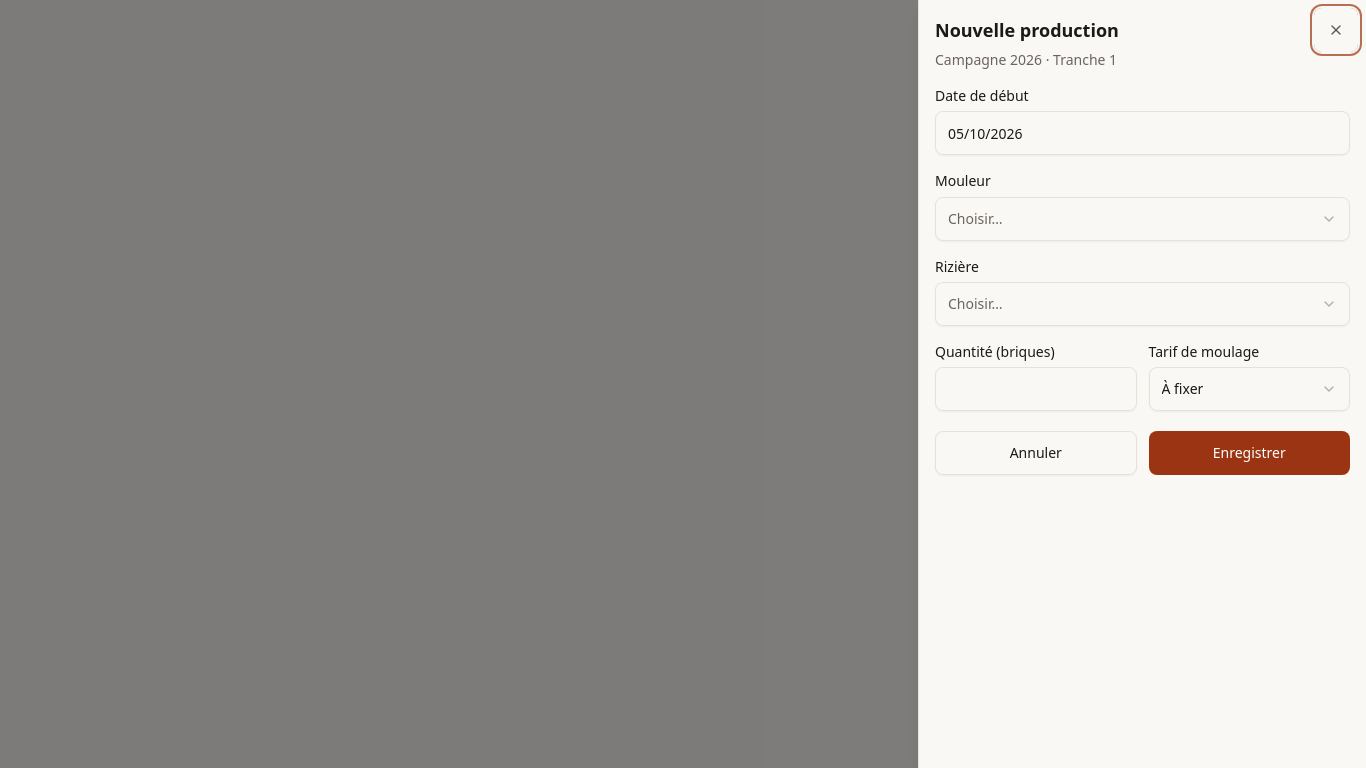
Test: NewProductionPage › says above the form what no field can carry
Click the dropdown labelled "Choisir…" below "Mouleur": (975, 218) x1=935 y1=196 x2=1350 y2=240
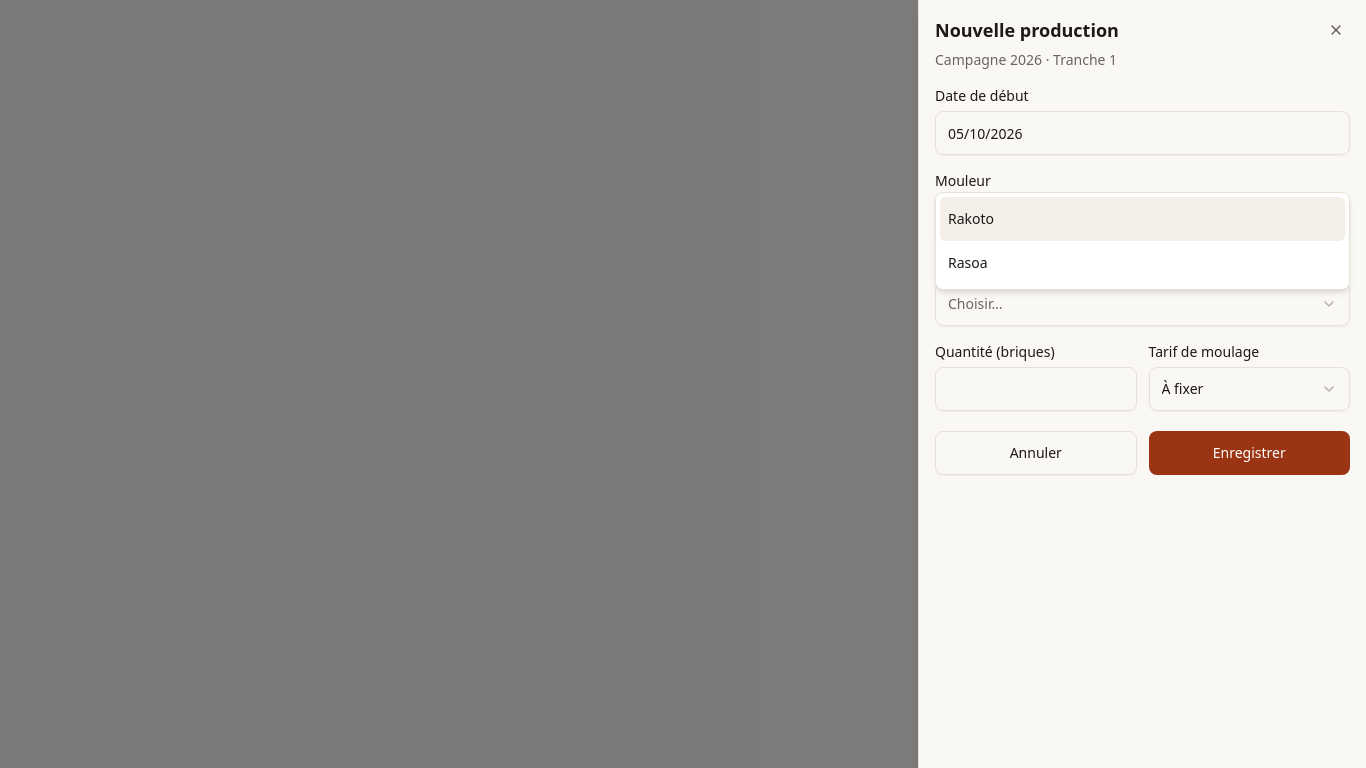
Click the option "Rakoto": (971, 218) x1=940 y1=196 x2=1345 y2=240
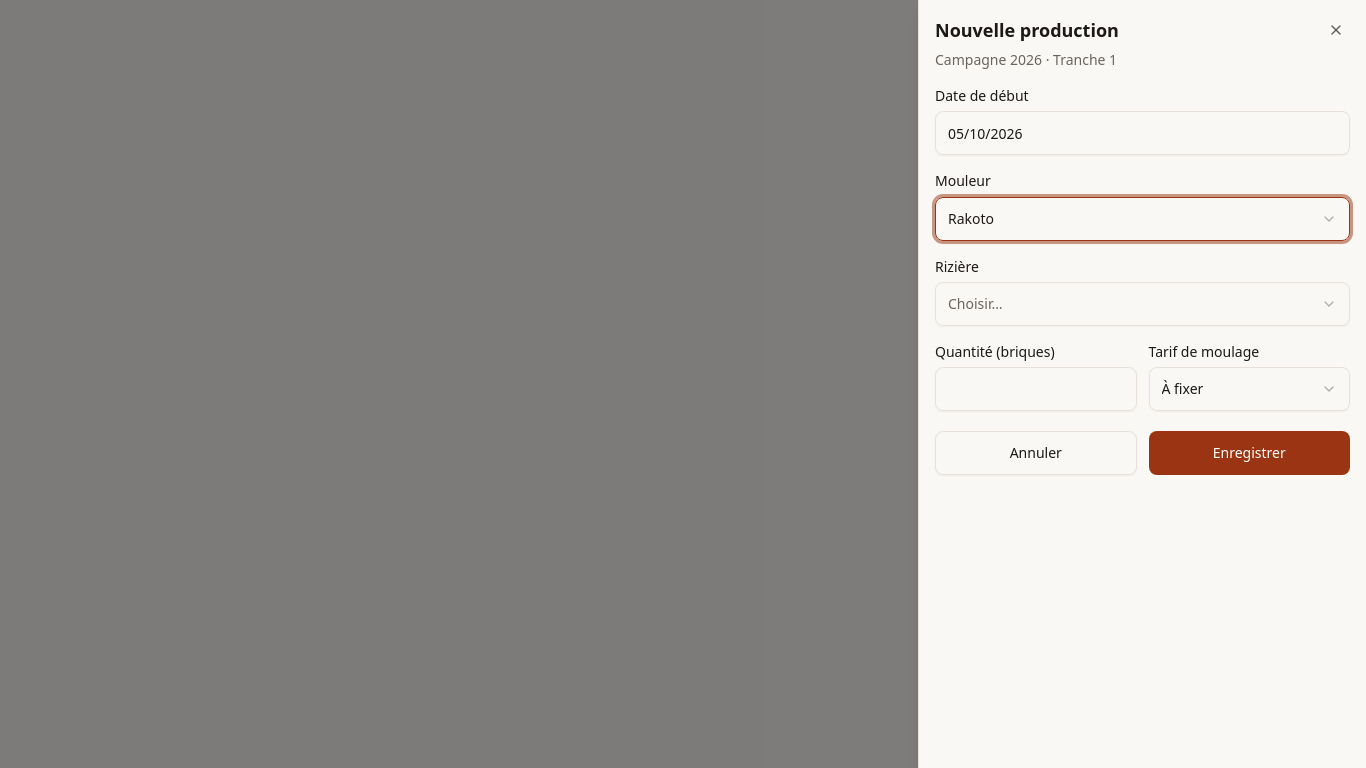
Click the dropdown named "Rizière": (975, 303) x1=935 y1=282 x2=1350 y2=326
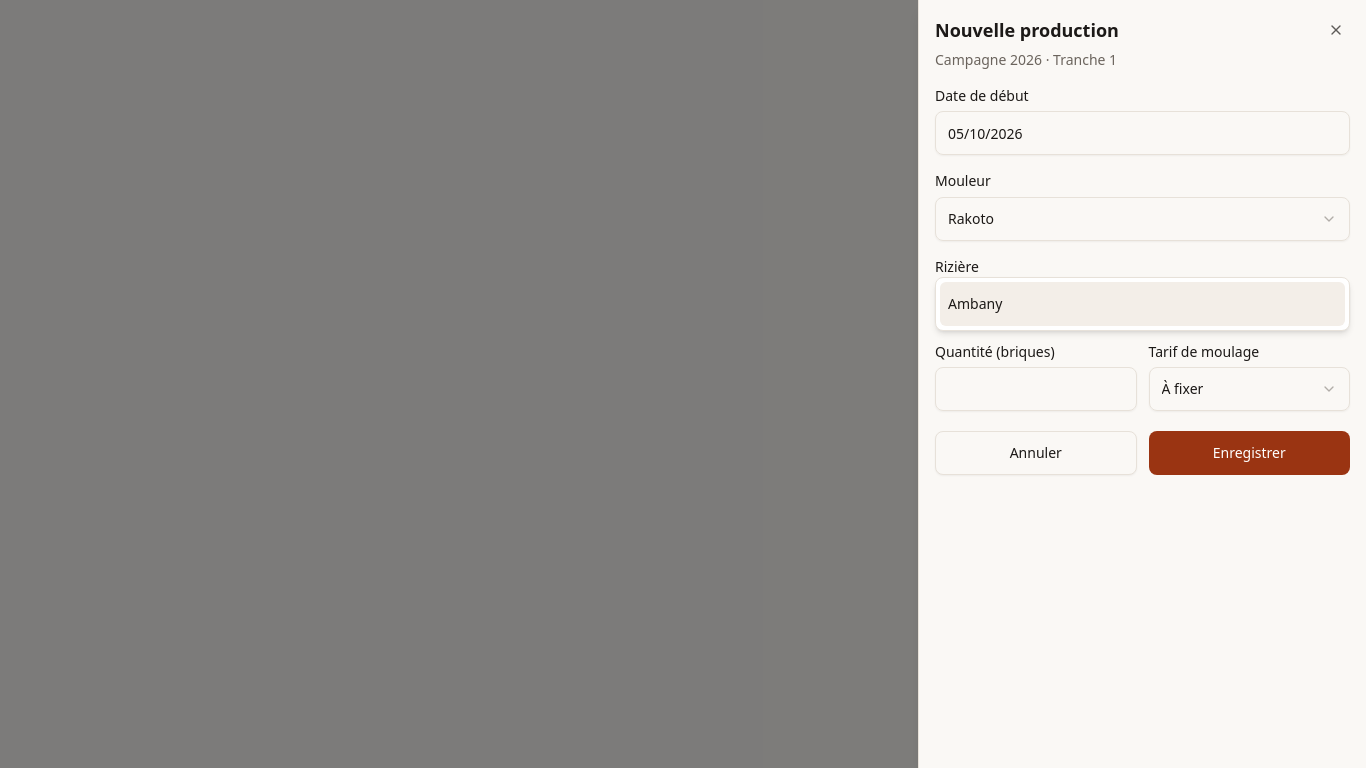
Click the option "Ambany": (975, 303) x1=940 y1=282 x2=1345 y2=326
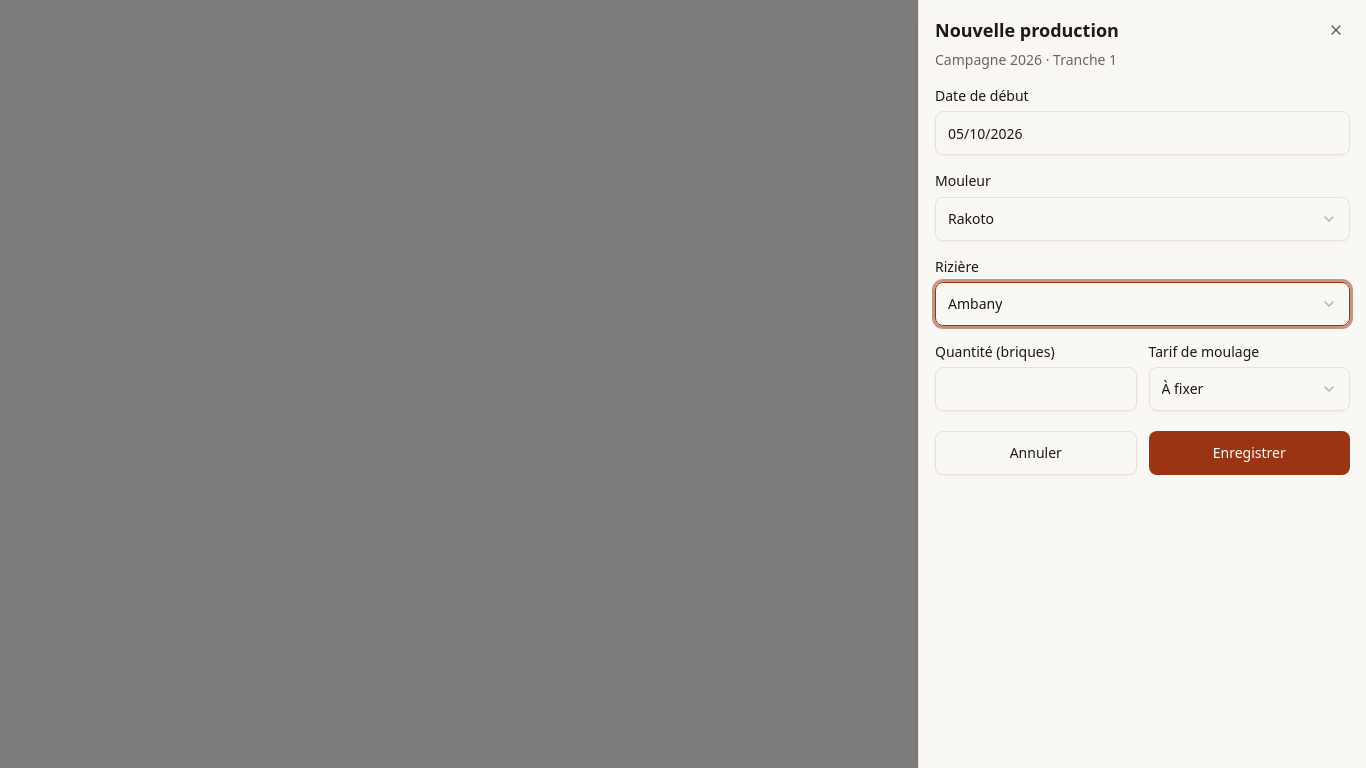
In the field labelled "Quantité (briques)": (1036, 389) x1=935 y1=367 x2=1136 y2=411, type "500"
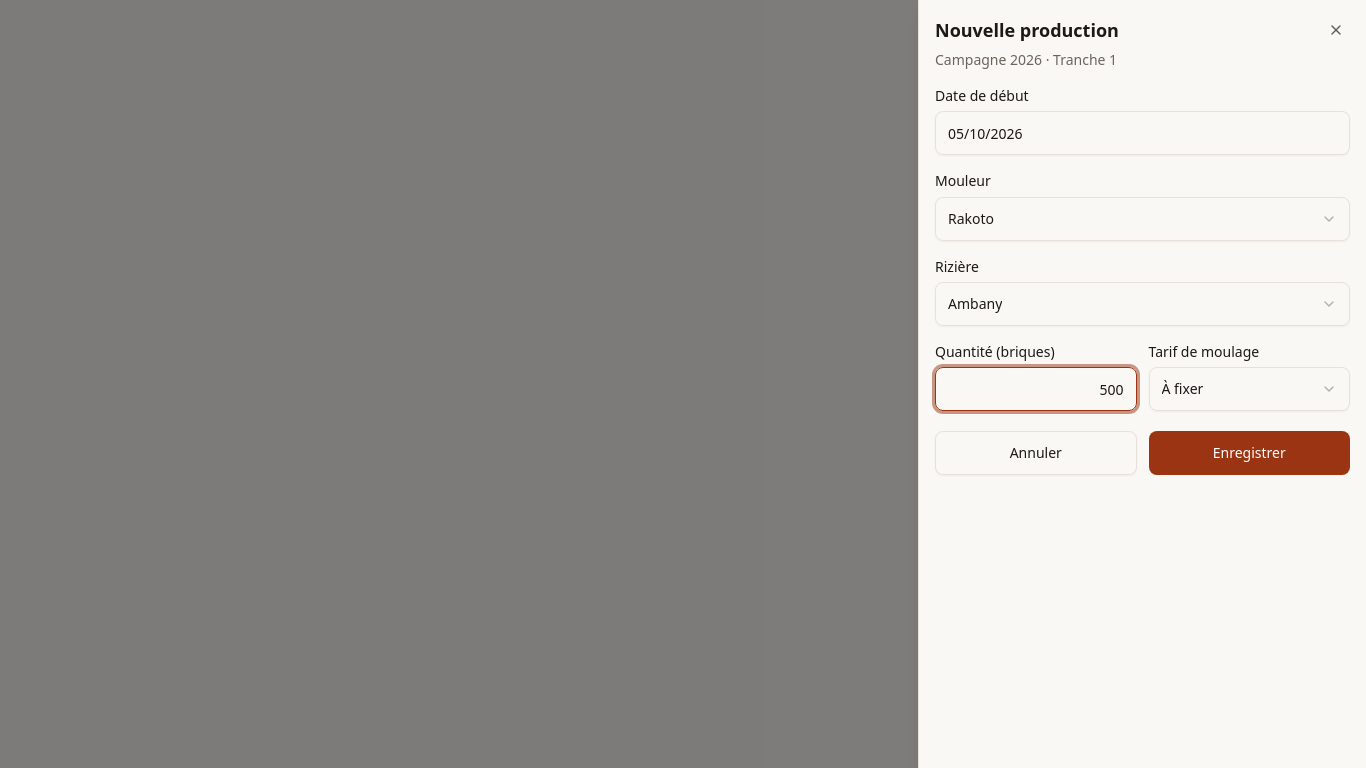
Click the button "Enregistrer": (1249, 453) x1=1148 y1=431 x2=1350 y2=475
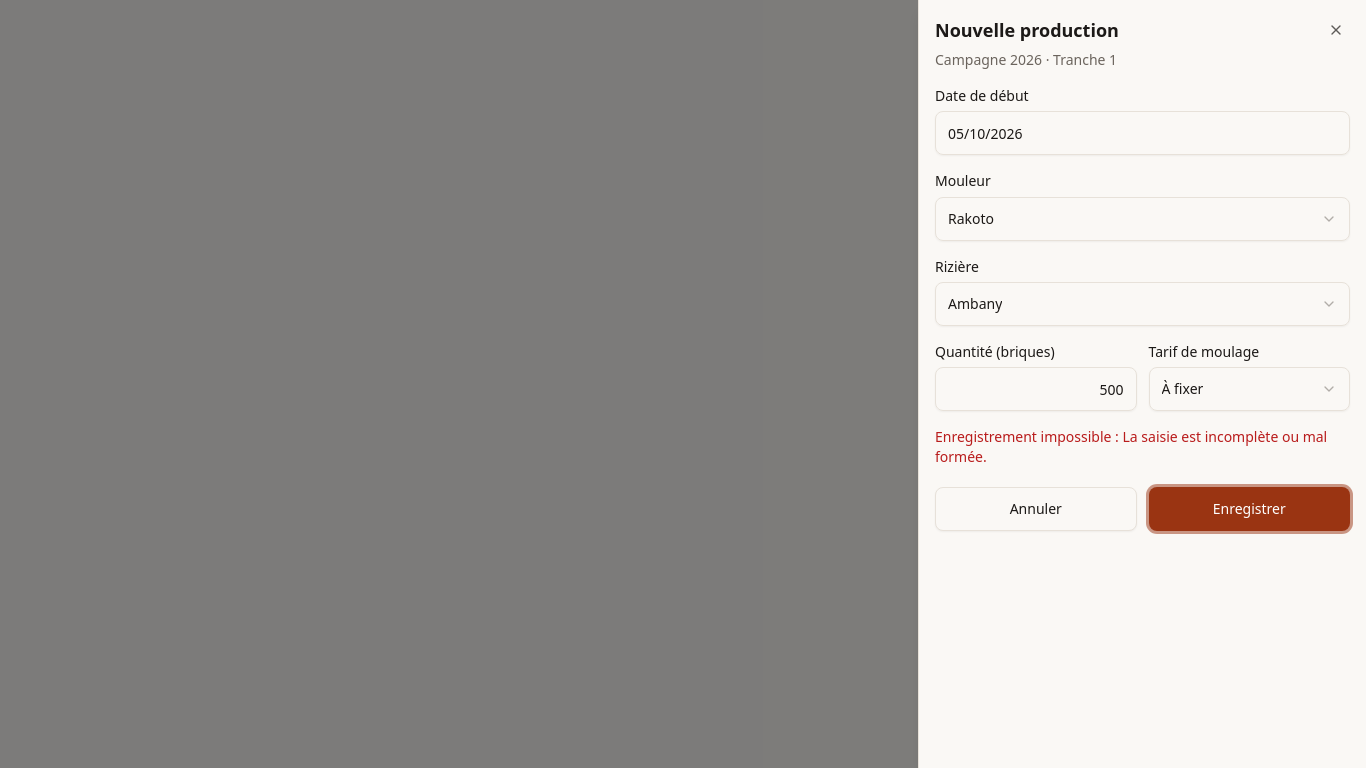
Expected: the message reads "Enregistrement impossible : La saisie est incomplète ou mal formée.", x1=935 y1=427 x2=1350 y2=467
